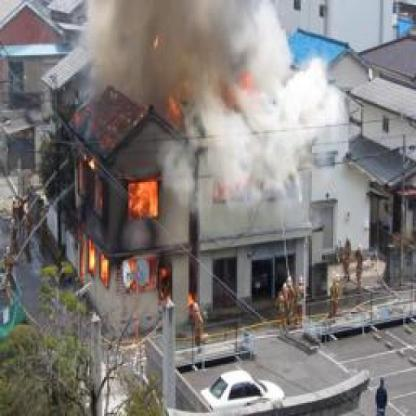fire: (75, 148, 196, 327)
